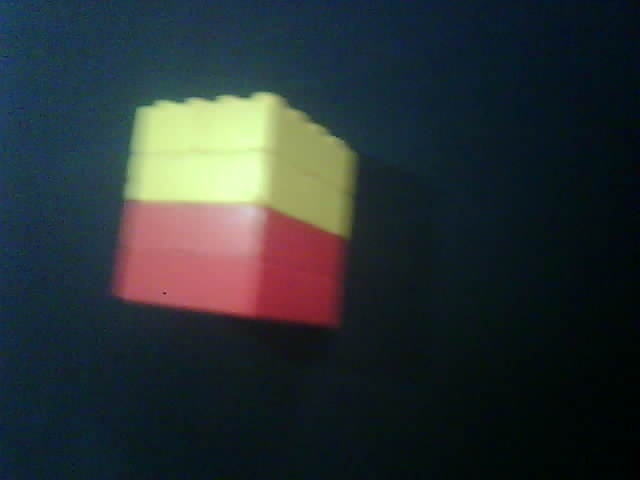lego: (108, 92, 360, 327)
